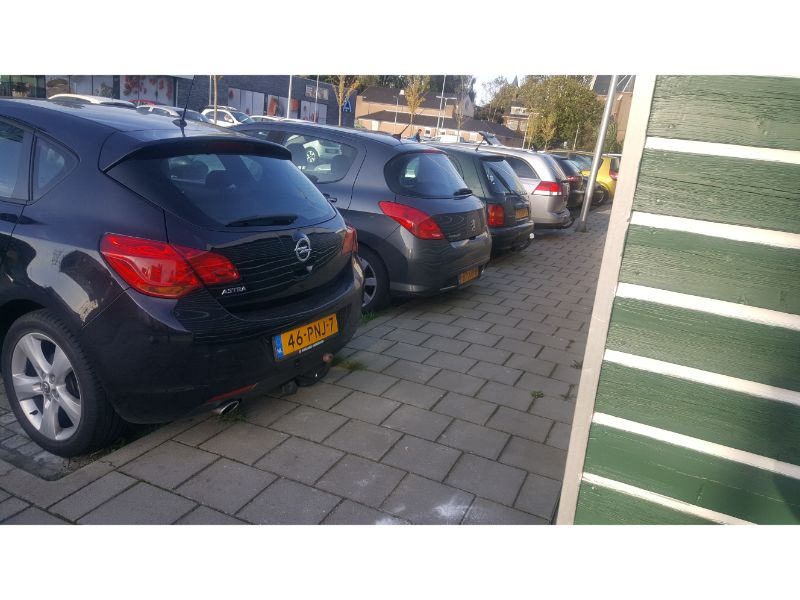kenteken: (272, 313, 343, 355), (454, 263, 483, 289)
